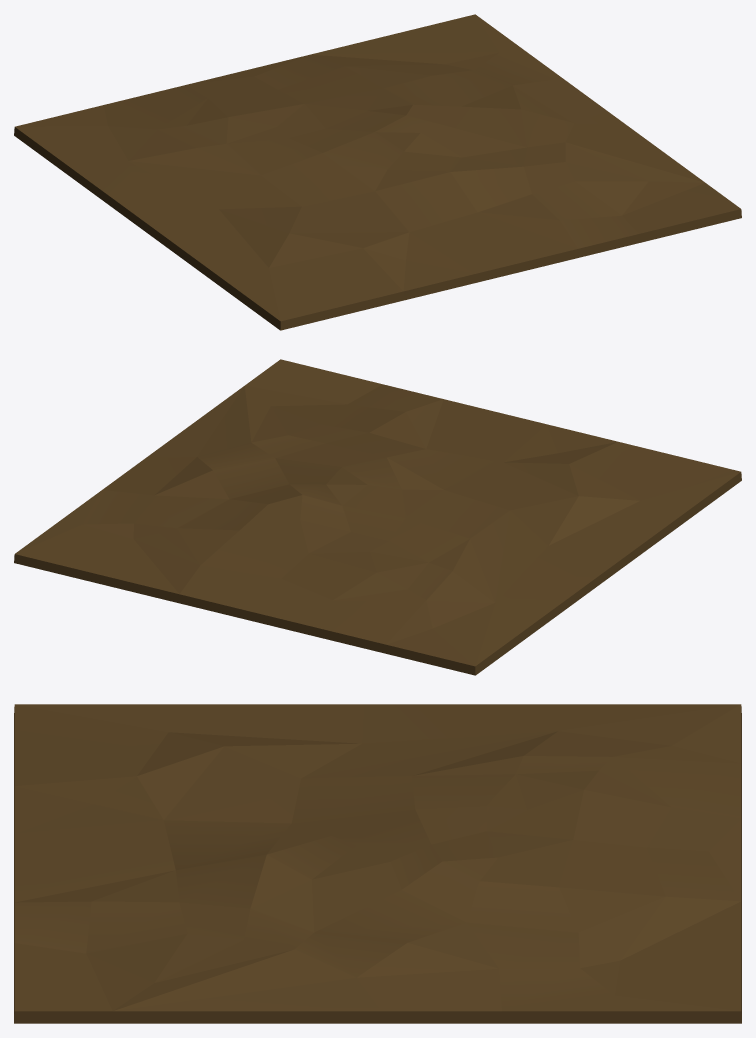
The model's file is Mud2.fbx.
The picture shows the model from 3 angles, top to bottom: view 1: azimuth 30°, elevation 25°; view 2: azimuth 150°, elevation 25°; view 3: azimuth 270°, elevation 25°; orthographic projection. The views are drawn at different scales.
Visible parts, largest first — view 1: Mud2; view 2: Mud2; view 3: Mud2.
Part boxes in pixels (x1,y1,x2,y2): Mud2: (14, 14, 741, 330); Mud2: (14, 359, 741, 675); Mud2: (14, 704, 741, 1023).
Bounding box in the file's own units: 6.01 × 6.01 × 0.3917.
